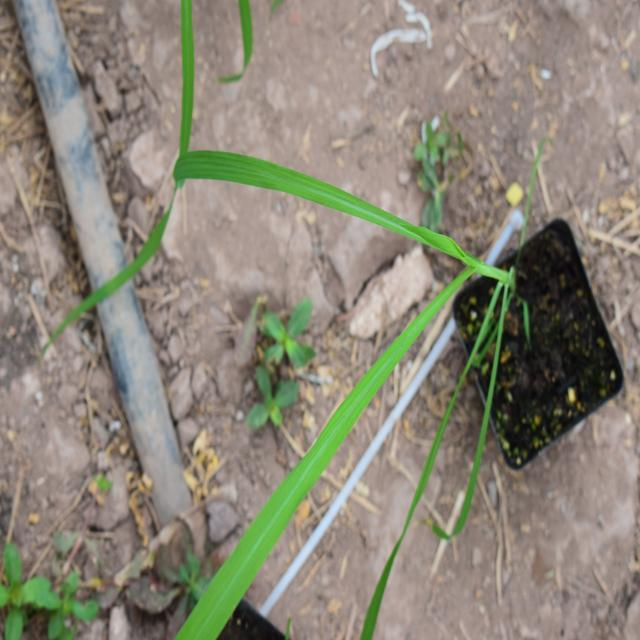barnyard_grass: (90, 152, 498, 612)
